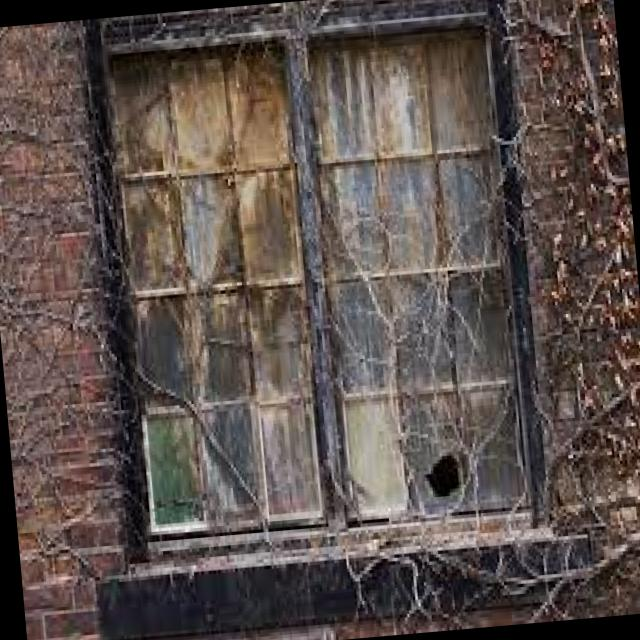Window: (87, 4, 542, 566)
